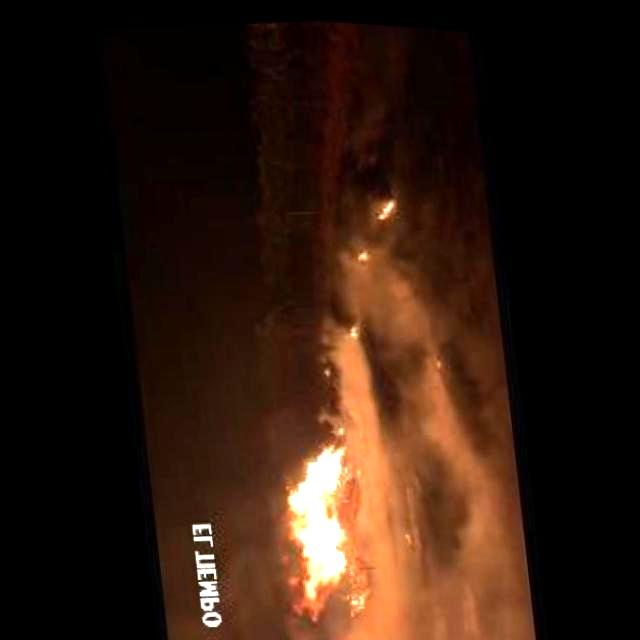fire: (375, 300, 535, 622), (267, 424, 371, 620), (376, 192, 396, 212), (352, 240, 368, 256), (346, 321, 354, 332), (322, 360, 330, 370), (334, 420, 342, 428)
